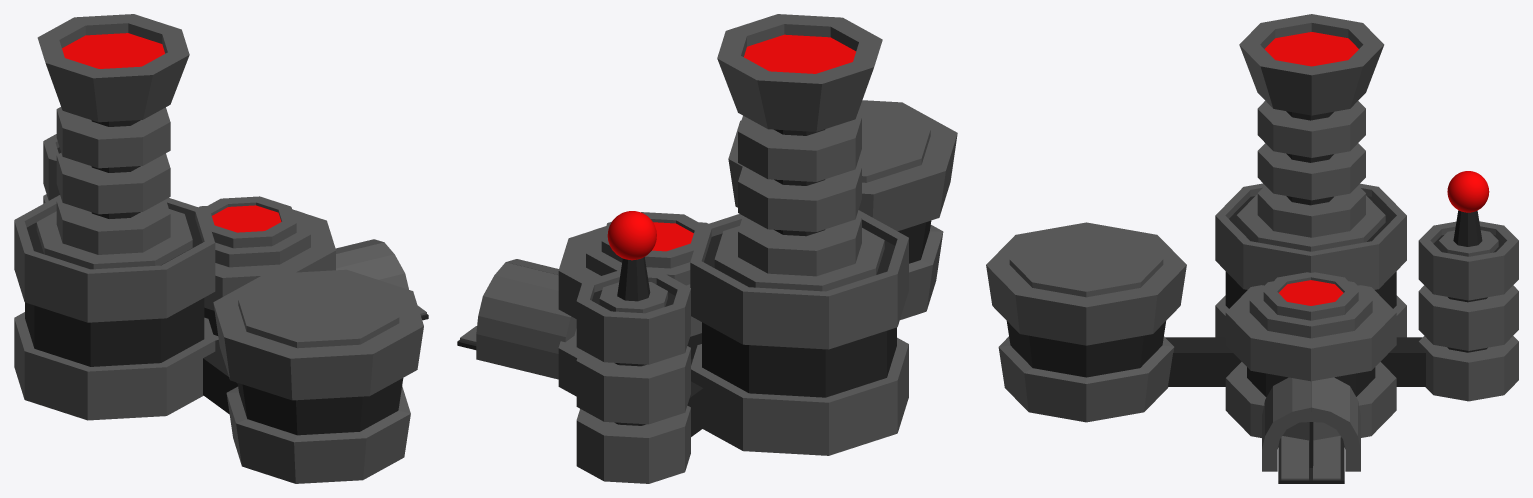
The model's file is enemy_bild_02.FBX.
The picture shows the model from 3 angles, left to right: view 1: azimuth 30°, elevation 25°; view 2: azimuth 150°, elevation 25°; view 3: azimuth 270°, elevation 25°; orthographic projection. The views are drawn at different scales.
Parts seen in each view (by area): view 1: enemy_bilding_02; view 2: enemy_bilding_02; view 3: enemy_bilding_02.
Boxes of the visible parts, left/top/right/bottom form: enemy_bilding_02: left=14, top=14, right=428, bottom=483; enemy_bilding_02: left=457, top=14, right=957, bottom=483; enemy_bilding_02: left=986, top=14, right=1518, bottom=483.
Size of the model in its own units: 1908 by 1570 by 2474.
